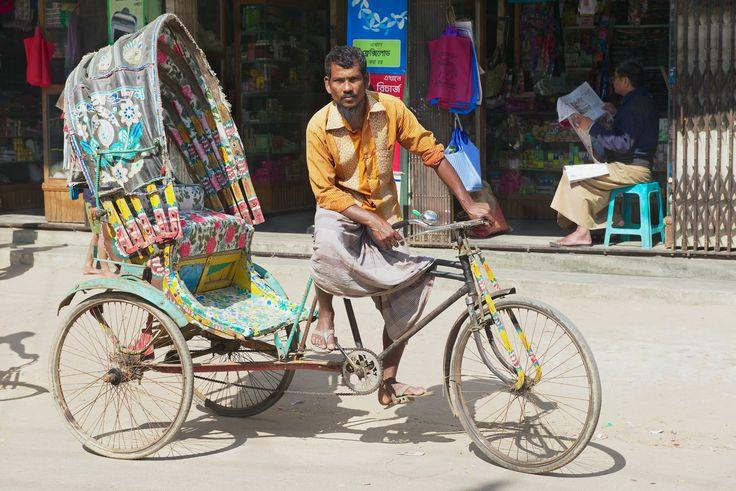Rickshaw: (50, 14, 600, 472)
